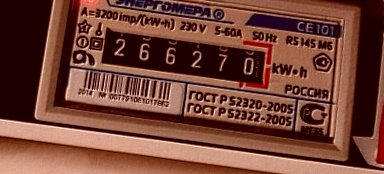0: (241, 55, 257, 76)
2: (111, 36, 129, 58), (188, 48, 205, 70)
6: (137, 40, 153, 63), (164, 45, 179, 67)
7: (214, 52, 229, 72)
screen: (91, 16, 281, 96)
